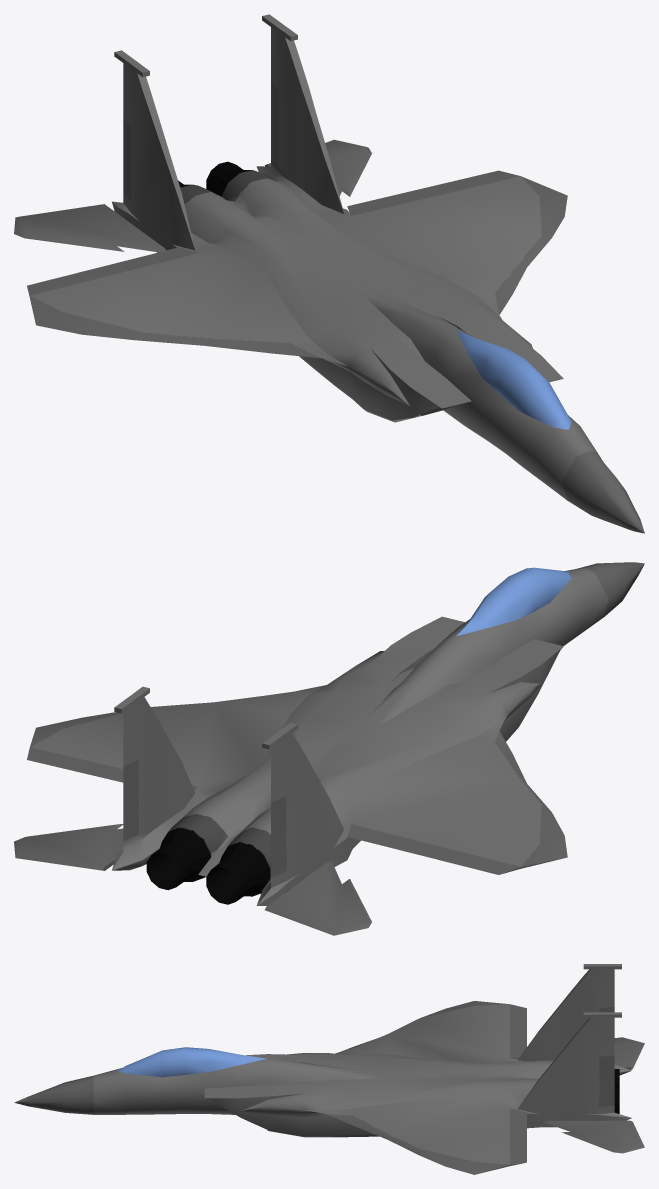
3 views of the same model, one above another, from view 1: azimuth 30°, elevation 25°; view 2: azimuth 150°, elevation 25°; view 3: azimuth 270°, elevation 25° (orthographic). The views are drawn at different scales.
Visible parts, largest first — view 1: Body, NozzleL; view 2: Body, NozzleR, NozzleL; view 3: Body.
Boxes of the visible parts, left/top/right/bottom form: Body: left=14, top=14, right=644, bottom=533; NozzleL: left=206, top=161, right=251, bottom=196; Body: left=14, top=562, right=644, bottom=935; NozzleR: left=211, top=842, right=270, bottom=901; NozzleL: left=152, top=827, right=210, bottom=886; Body: left=14, top=964, right=644, bottom=1174.
Bounding box in the file's own units: 13.11 × 4.53 × 20.08.
Materials: 1 (1 with a texture image).
